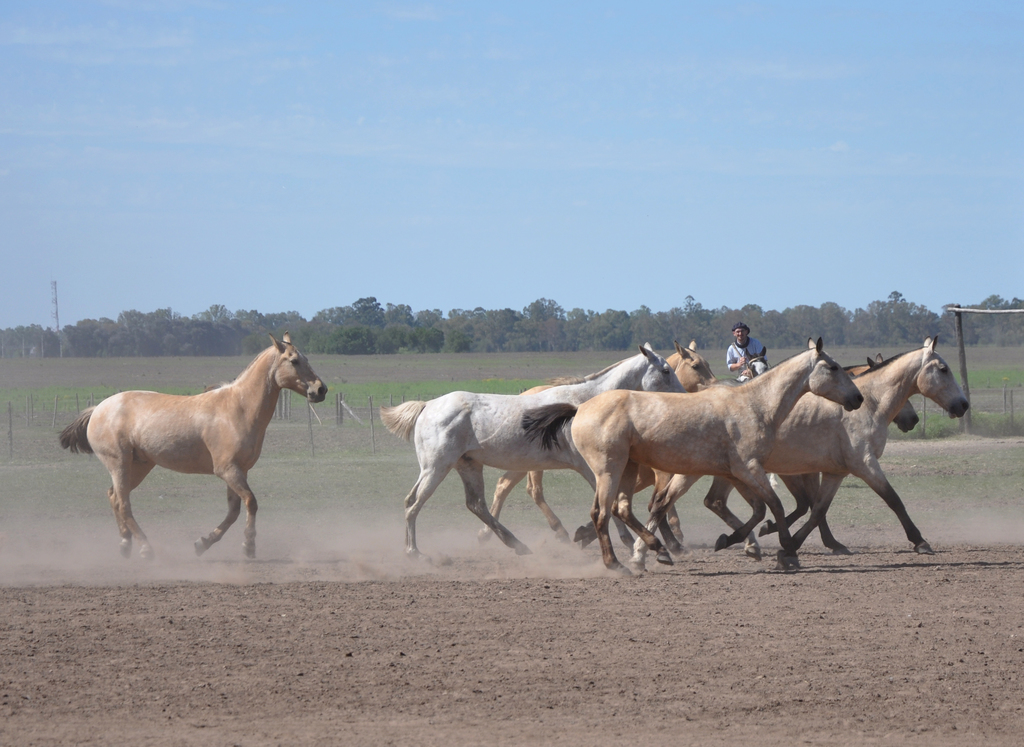horse: (45, 336, 327, 553)
